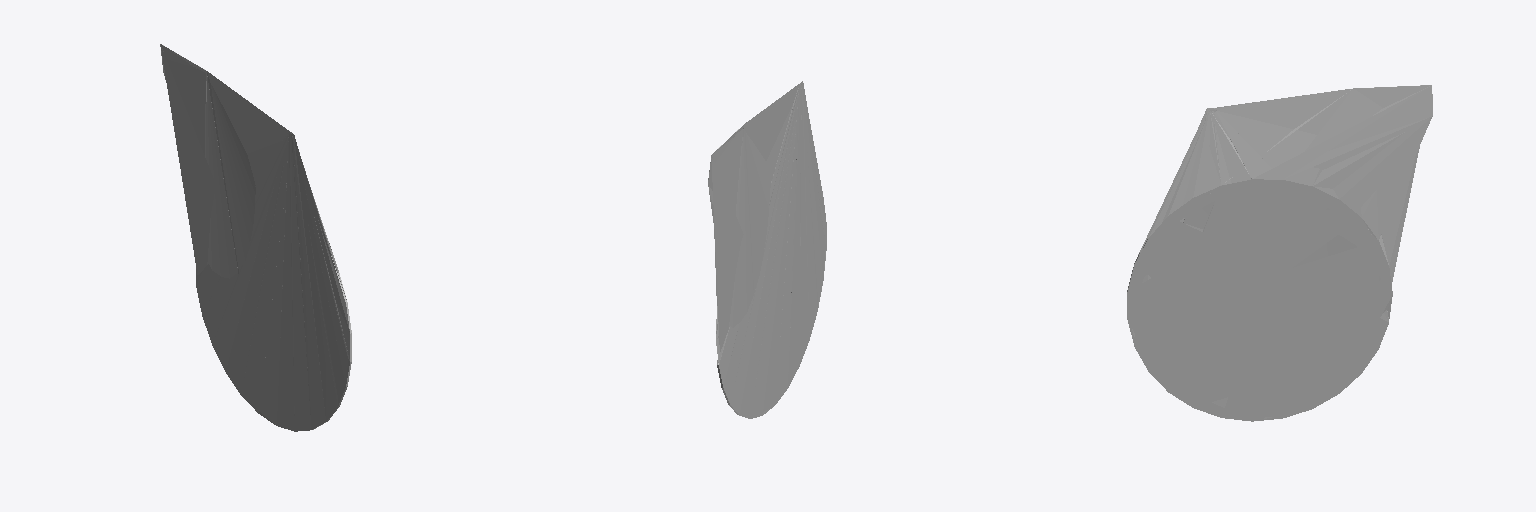
File: Clothes dryer.obj
3 renders of one model, left to right at view 1: azimuth 30°, elevation 25°; view 2: azimuth 150°, elevation 25°; view 3: azimuth 270°, elevation 25°, orthographic.
Parts seen in each view (by area): view 1: Box003, Text014, Cylinder005, Cylinder004; view 2: Box003, Cylinder005, Text014, Cylinder004; view 3: Box003, Text014, Cylinder004, Cylinder005.
Part boxes in pixels (left/top/right/bottom): Box003: left=160, top=44, right=349, bottom=431; Text014: left=174, top=53, right=349, bottom=429; Cylinder005: left=161, top=45, right=349, bottom=431; Cylinder004: left=160, top=44, right=351, bottom=429; Box003: left=709, top=84, right=826, bottom=417; Cylinder005: left=709, top=83, right=826, bottom=418; Text014: left=718, top=81, right=825, bottom=418; Cylinder004: left=708, top=125, right=825, bottom=414; Box003: left=1128, top=111, right=1432, bottom=418; Text014: left=1128, top=88, right=1431, bottom=421; Cylinder004: left=1127, top=85, right=1432, bottom=291; Cylinder005: left=1127, top=92, right=1392, bottom=421.
Bounding box in the file's own units: 3185 × 24946 × 21393.